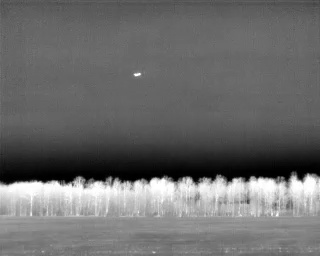DRONE: (130, 68, 145, 81)
